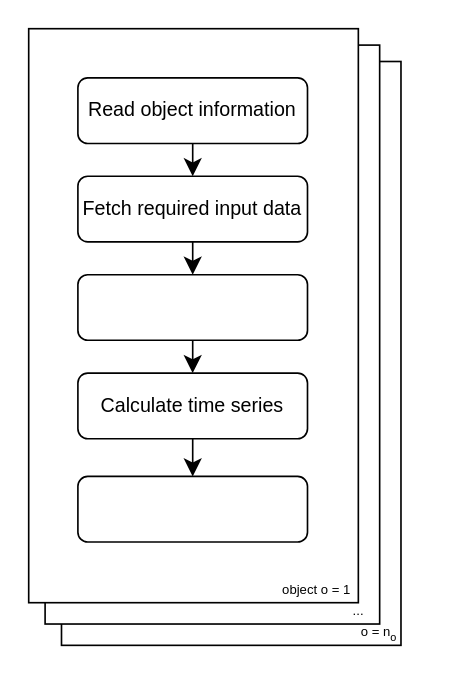
The diagram is 453 pixels wide and 679 high, and some of its shapes have lost their labels. The shapes that lost their labels are listed below. From the top down, each one's centre as x and y in pixels, then its label:
At point 192,306: "Preprocess input data".
At point 192,508: "Format and return output".
